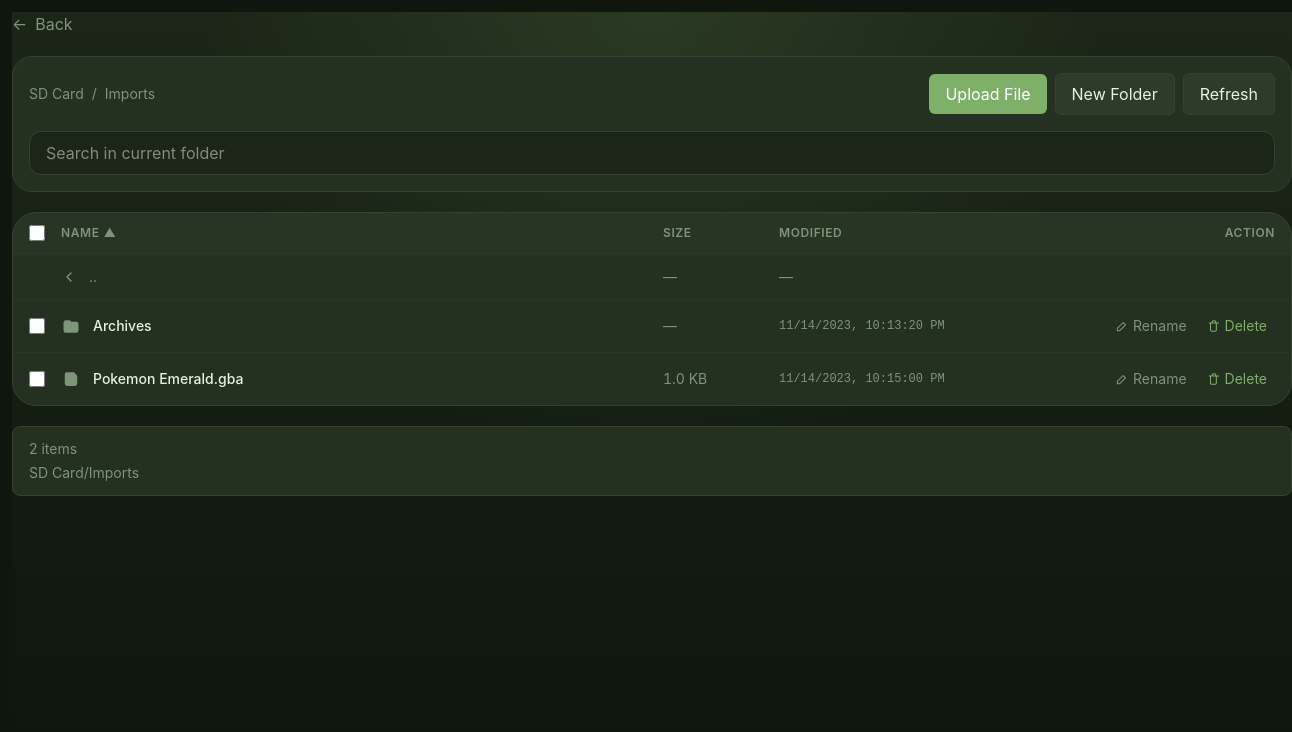
it: BrowserView › disables bulk download when a selected folder is included
Click the checkbox named "Select Archives" at (37, 326), box [29, 318, 45, 334]
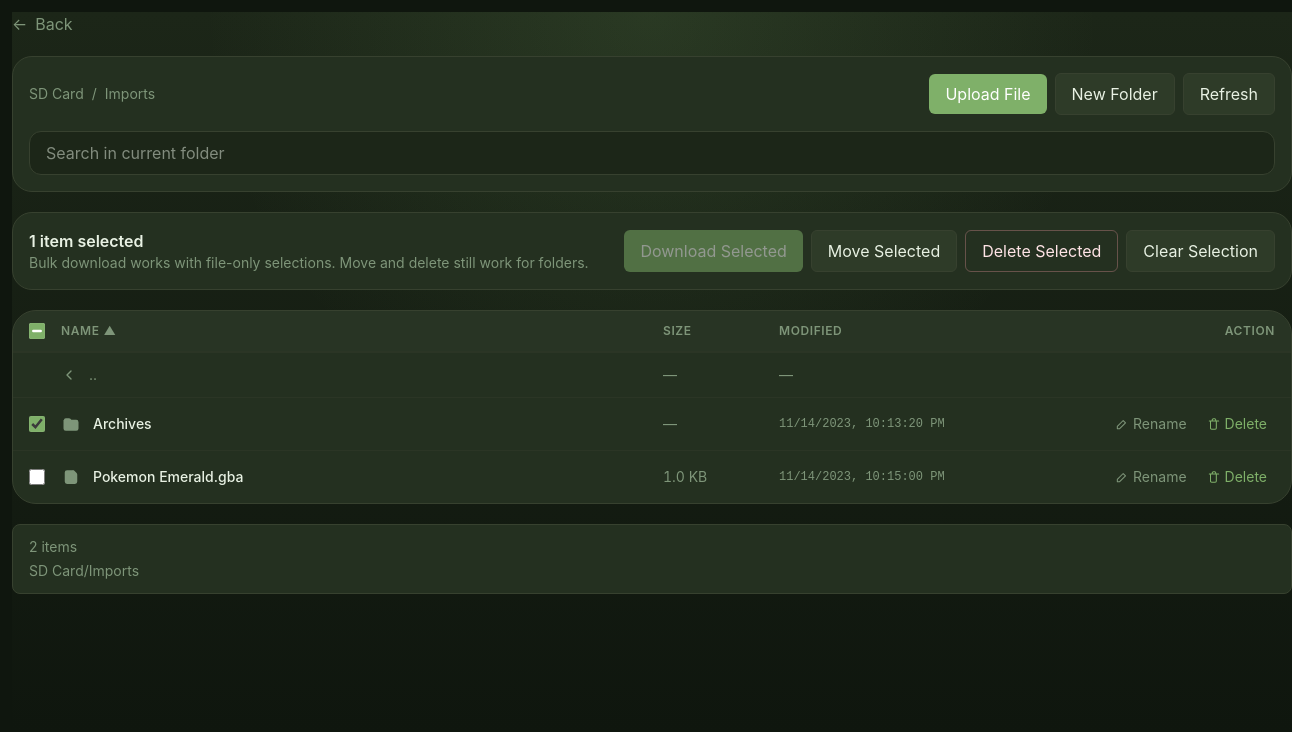
Check: the button "Download Selected" is disabled, box [624, 230, 803, 272]
Check: the text "Bulk download works with file-only selections. Move and delete still work for folders." is shown, box [29, 254, 589, 271]
